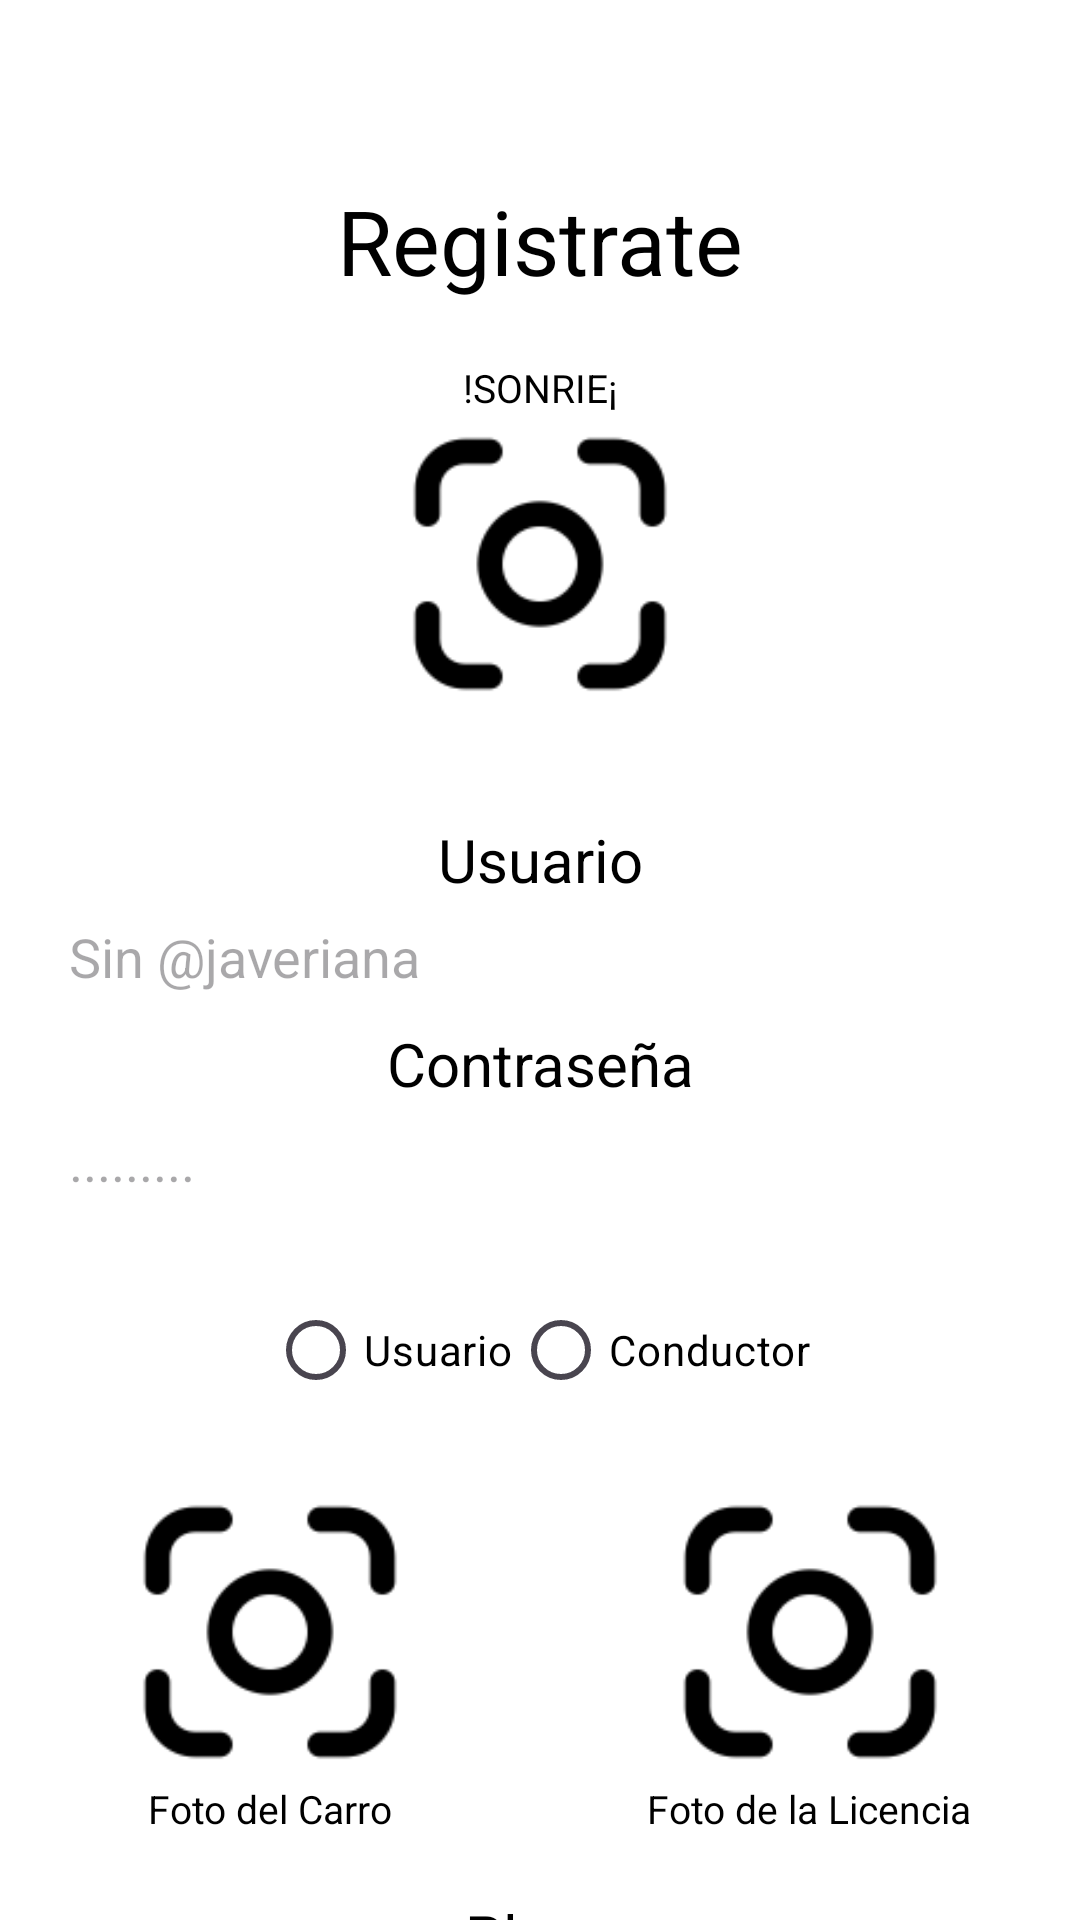

Screen size 1080px x 1920px. Icon name, then its box in pixels as [x1,y1,x2,y2]:
cameralog: [413,437,667,691], [143,1505,397,1759], [683,1505,937,1759]
